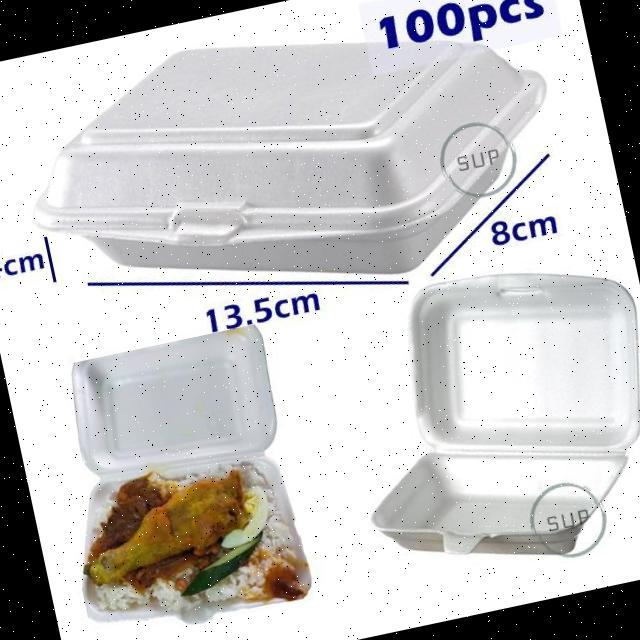styrofoam: (3, 0, 578, 347), (324, 240, 640, 594), (34, 320, 317, 640)
